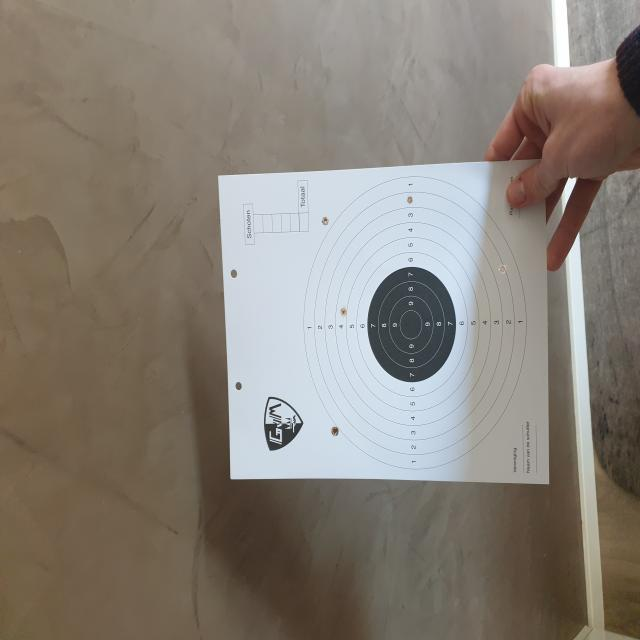0: (331, 426, 339, 436), (322, 217, 328, 226)
2: (498, 264, 508, 274), (407, 195, 414, 204)
5: (340, 305, 347, 318)
Target: (303, 175, 528, 470)
black_contour: (367, 266, 456, 382)
